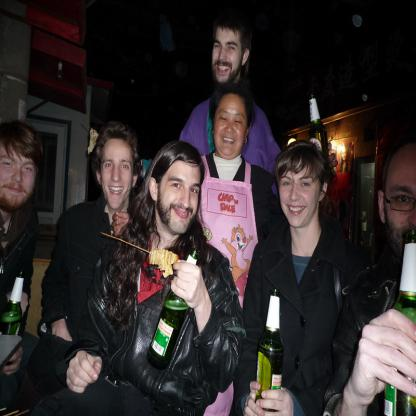drinking: (146, 248, 200, 370), (383, 228, 415, 415), (256, 288, 284, 416), (2, 268, 25, 372), (309, 92, 329, 182)
